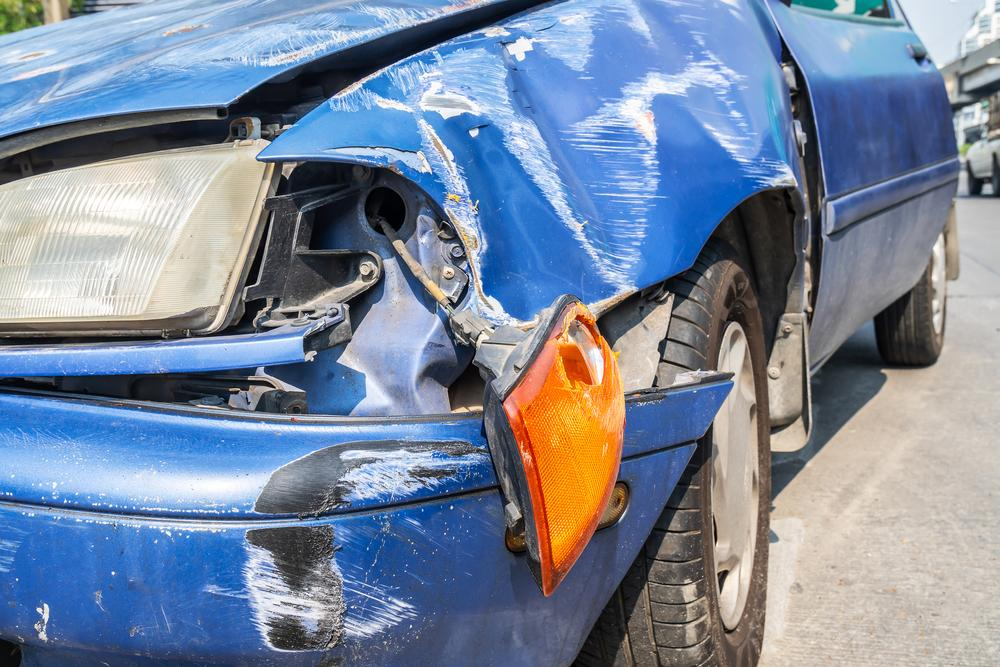dent: (429, 117, 598, 326)
scratch: (312, 0, 792, 326), (207, 432, 493, 656), (166, 0, 490, 66)
